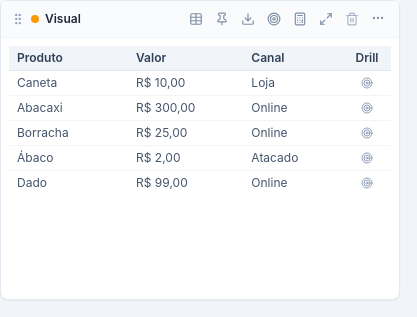
Test: VisualCard sort integration › table: clicking a column header sorts asc, then toggles desc, with an arrow indicator
Click the column heading "Valor": (186, 58) [128,46,243,70]
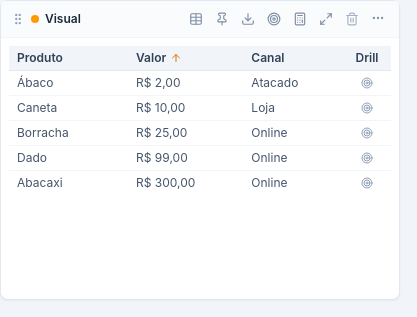
Result: the icon named "crescente" is shown at [170,52,182,64]
Click the column heading "Valor": (186, 58) [128,46,243,70]
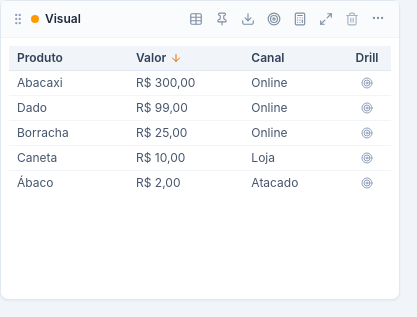
Result: the icon named "decrescente" is shown at [170,52,182,64]
// Switching to another column starts ascending (pt-BR collation).
Click the column heading "Produto": (69, 58) [9,46,128,70]
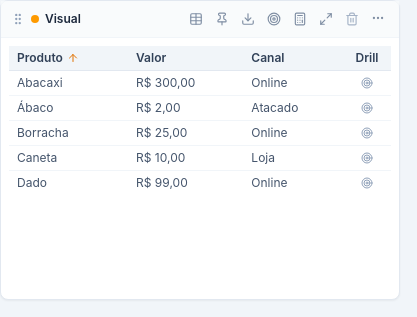
Result: the text "Dado" is shown at [17,175,47,191]
